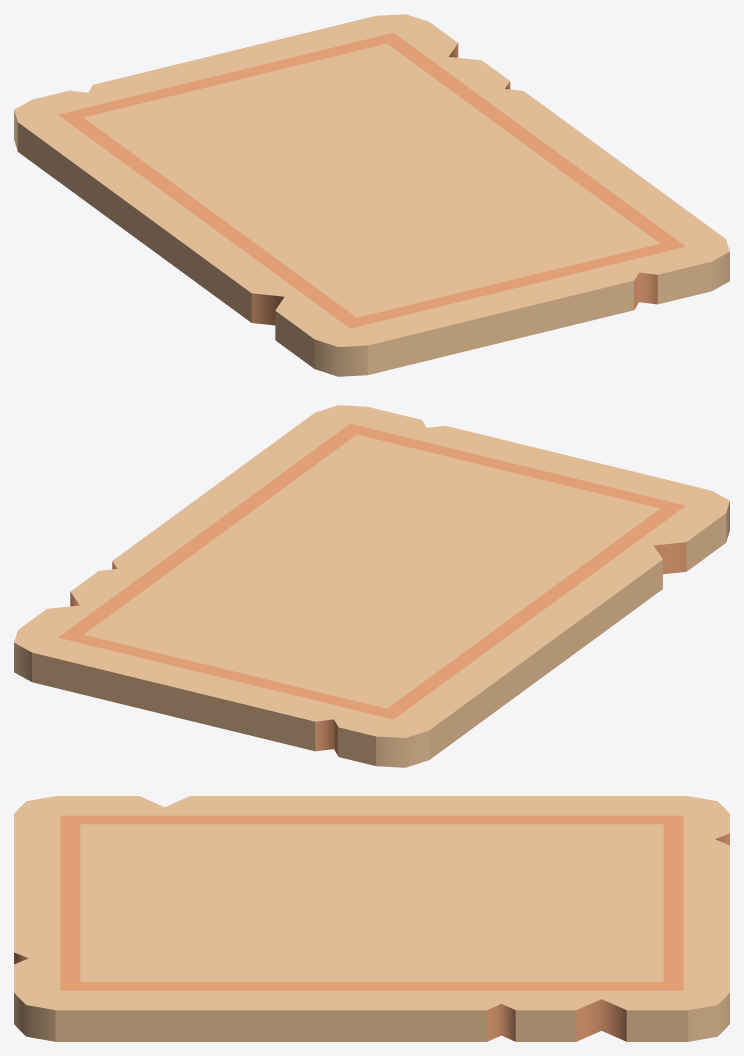
Rendered from cuttingBoard.obj.
The picture shows the model from 3 angles, top to bottom: view 1: azimuth 30°, elevation 25°; view 2: azimuth 150°, elevation 25°; view 3: azimuth 270°, elevation 25°; orthographic projection. The views are drawn at different scales.
Parts seen in each view (by area): view 1: cuttingBoard; view 2: cuttingBoard; view 3: cuttingBoard.
Part boxes in pixels (x1,y1,x2,y2): cuttingBoard: (14,14,729,376); cuttingBoard: (14,405,729,767); cuttingBoard: (14,796,729,1041).
Bounding box in the file's own units: 0.58 × 0.04 × 0.82.
